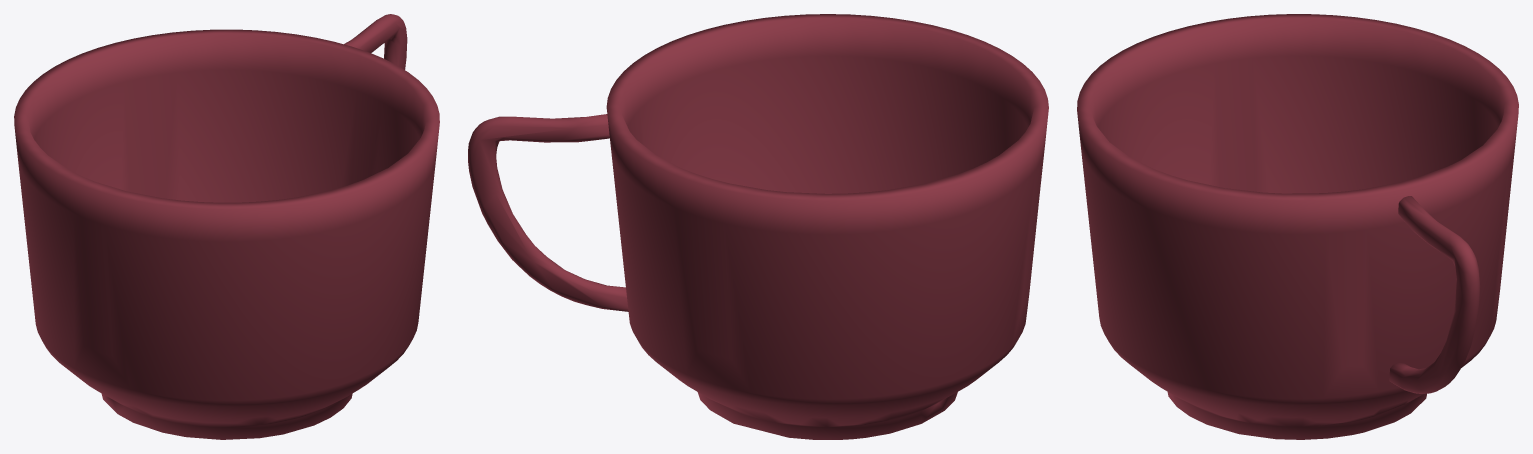
File: cup-red.glb
3 views of the same model, side by side, from view 1: azimuth 30°, elevation 25°; view 2: azimuth 150°, elevation 25°; view 3: azimuth 270°, elevation 25° (orthographic). The views are drawn at different scales.
Visible parts, largest first — view 1: Sphere.002; view 2: Sphere.002; view 3: Sphere.002.
Boxes of the visible parts, x1=… form: Sphere.002: x1=14, y1=14, x2=439, y2=439; Sphere.002: x1=468, y1=14, x2=1048, y2=439; Sphere.002: x1=1077, y1=14, x2=1518, y2=439.
Bounding box in the file's own units: 0.1758 × 0.1005 × 0.1452.
